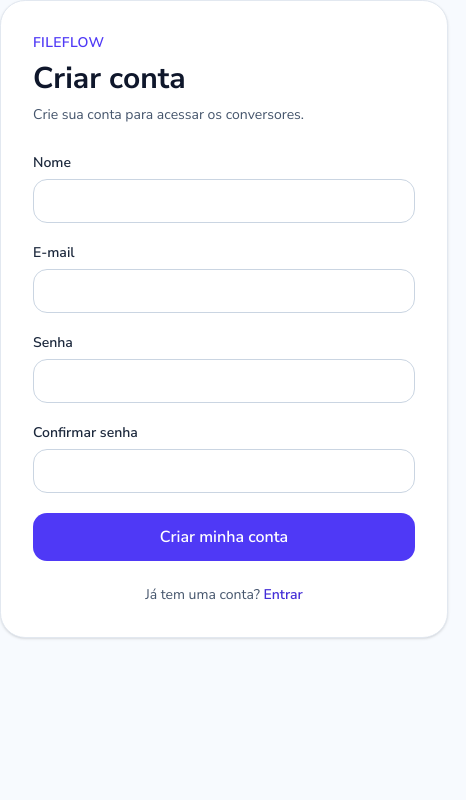
Test: AuthForm › anuncia a validação e não consulta a API com dados inválidos
Step 1. Click the button "Criar minha conta" → (224, 537), box 33,513 -> 415,561
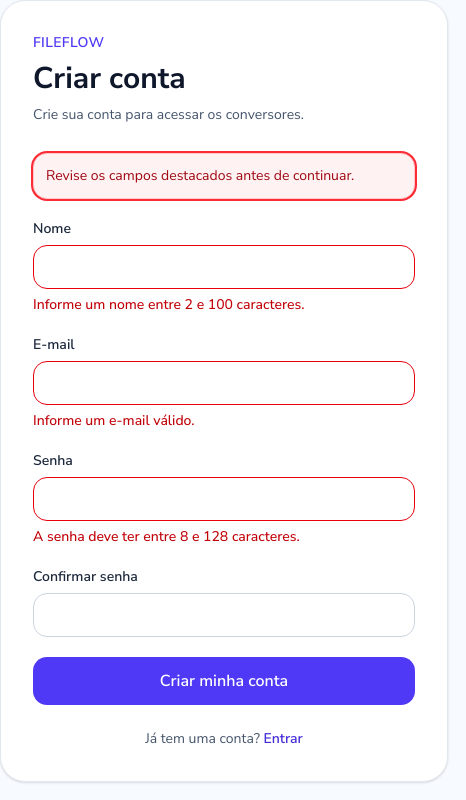
Result: the message shows "Revise os campos" at 46,166 -> 354,185
Result: the text "A senha deve ter entre 8 e 128 caracteres." is shown at 33,527 -> 300,546
